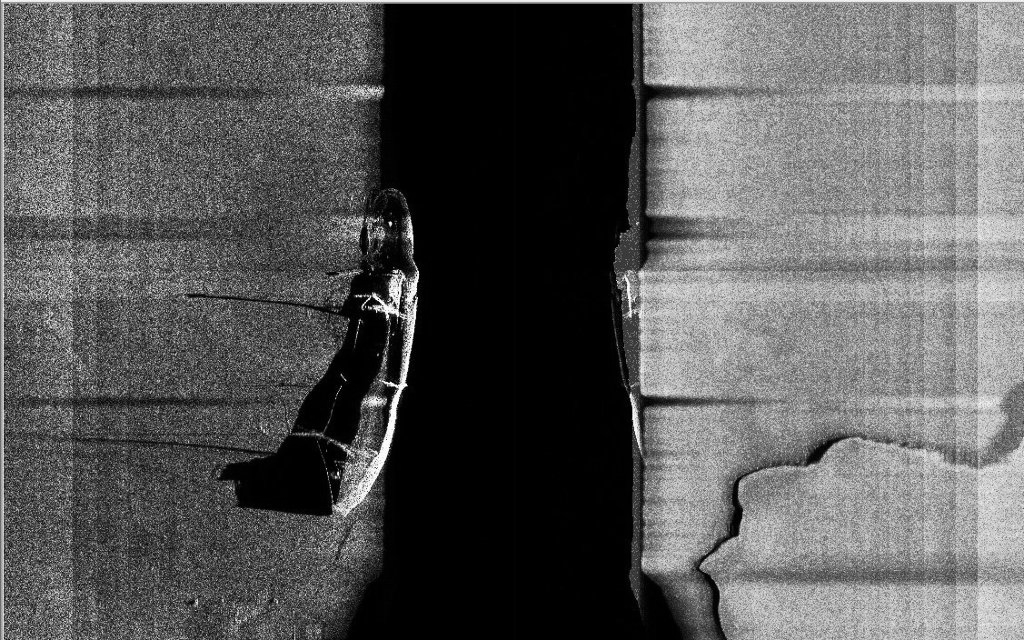ship: (275, 186, 422, 520)
